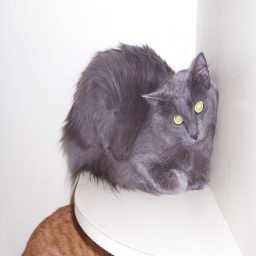cat: (65, 40, 222, 212)
